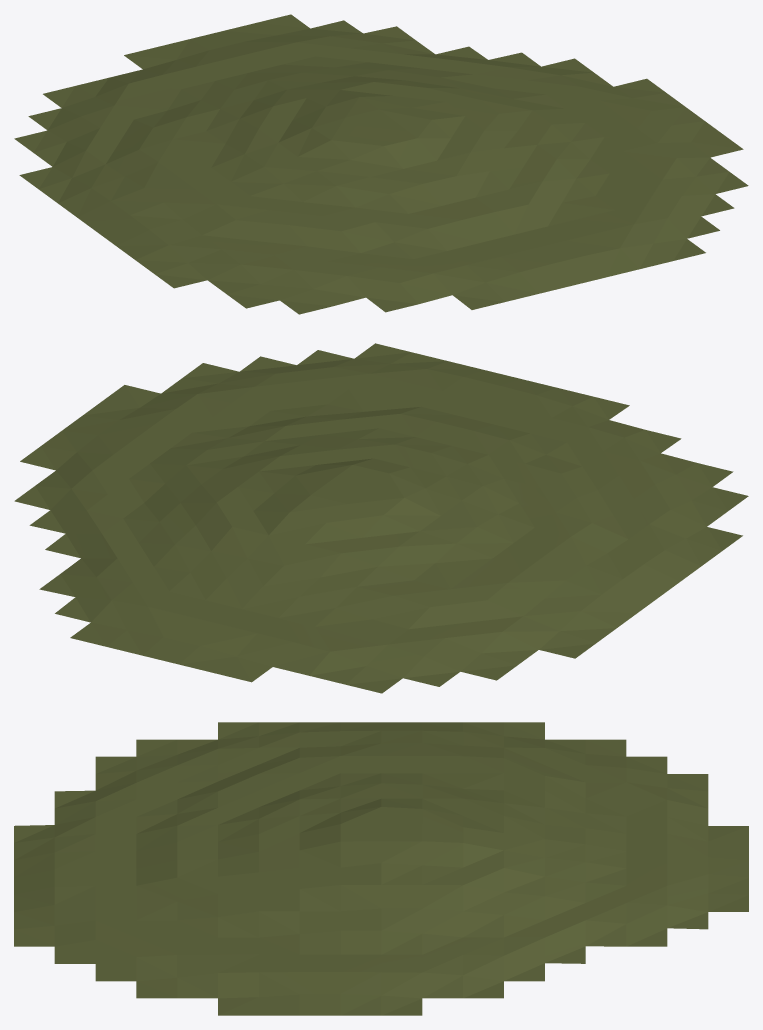
File: SM_Env_GroundMounds_09.gltf
3 renders of one model, top to bottom at view 1: azimuth 30°, elevation 25°; view 2: azimuth 150°, elevation 25°; view 3: azimuth 270°, elevation 25°, orthographic. The views are drawn at different scales.
Visible parts, largest first — view 1: SM_Env_GroundMounds_09; view 2: SM_Env_GroundMounds_09; view 3: SM_Env_GroundMounds_09.
Boxes of the visible parts, left/top/right/bottom form: SM_Env_GroundMounds_09: left=14, top=14, right=748, bottom=314; SM_Env_GroundMounds_09: left=14, top=343, right=748, bottom=693; SM_Env_GroundMounds_09: left=14, top=722, right=748, bottom=1015.
Size of the model in its own units: 6.92 by 0.3997 by 7.33.
1 material, 1 textured.
